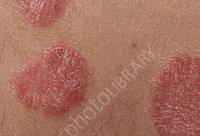plaque psoriasis: (12, 45, 91, 116), (150, 38, 200, 136), (7, 0, 71, 27)
